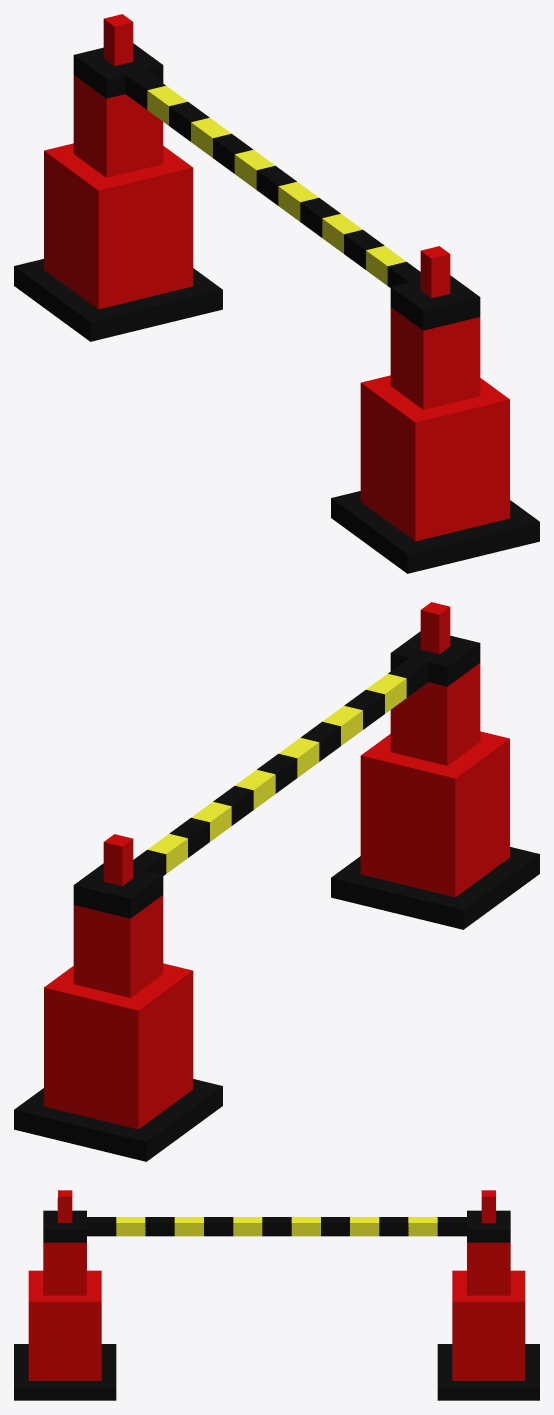
3 renders of one model, top to bottom at view 1: azimuth 30°, elevation 25°; view 2: azimuth 150°, elevation 25°; view 3: azimuth 270°, elevation 25°, orthographic. The views are drawn at different scales.
Parts seen in each view (by area): view 1: 立方体.471, 立方体.050, 立方体.506, 立方体.517, 立方体.518, 立方体.001, 立方体.349, 立方体.374; view 2: 立方体.512, 立方体.043, 立方体.477, 立方体.517, 立方体.518, 立方体.092, 立方体.369, 立方体.394; view 3: 立方体.014, 立方体.049, 立方体.056, 立方体.091, 立方体.353, 立方体.398, 立方体.481, 立方体.486, 立方体.489, 立方体.491, 立方体.494, 立方体.499 (+46 smaller).
Part boxes in pixels (left/top/right/bottom): 立方体.471: left=412, top=298, right=442, bottom=330; 立方体.050: left=79, top=309, right=109, bottom=341; 立方体.506: left=95, top=66, right=125, bottom=98; 立方体.517: left=420, top=246, right=450, bottom=278; 立方体.518: left=103, top=14, right=133, bottom=46; 立方体.001: left=396, top=541, right=426, bottom=573; 立方体.349: left=404, top=410, right=434, bottom=442; 立方体.374: left=87, top=178, right=117, bottom=210; 立方体.512: left=111, top=886, right=141, bottom=918; 立方体.043: left=444, top=897, right=474, bottom=929; 立方体.477: left=428, top=654, right=458, bottom=686; 立方体.517: left=420, top=602, right=450, bottom=634; 立方体.518: left=103, top=834, right=133, bottom=866; 立方体.092: left=127, top=1129, right=157, bottom=1161; 立方体.369: left=436, top=766, right=466, bottom=798; 立方体.394: left=119, top=998, right=149, bottom=1030; 立方体.014: left=28, top=1381, right=43, bottom=1400; 立方体.049: left=101, top=1381, right=116, bottom=1400; 立方体.056: left=437, top=1381, right=452, bottom=1400; 立方体.091: left=510, top=1381, right=525, bottom=1400; 立方体.353: left=28, top=1295, right=43, bottom=1314; 立方体.398: left=510, top=1295, right=525, bottom=1314; 立方体.481: left=101, top=1217, right=116, bottom=1236; 立方体.486: left=174, top=1217, right=189, bottom=1236; 立方体.489: left=218, top=1217, right=233, bottom=1236; 立方体.491: left=247, top=1217, right=262, bottom=1236; 立方体.494: left=291, top=1217, right=306, bottom=1236; 立方体.499: left=364, top=1217, right=379, bottom=1236.
Bounding box in the file's own units: 700 × 1400 × 3600.
